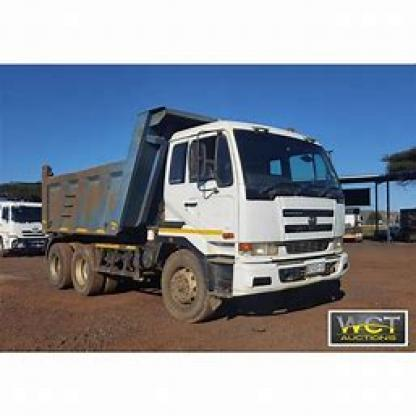dump_truck: (34, 99, 359, 312)
